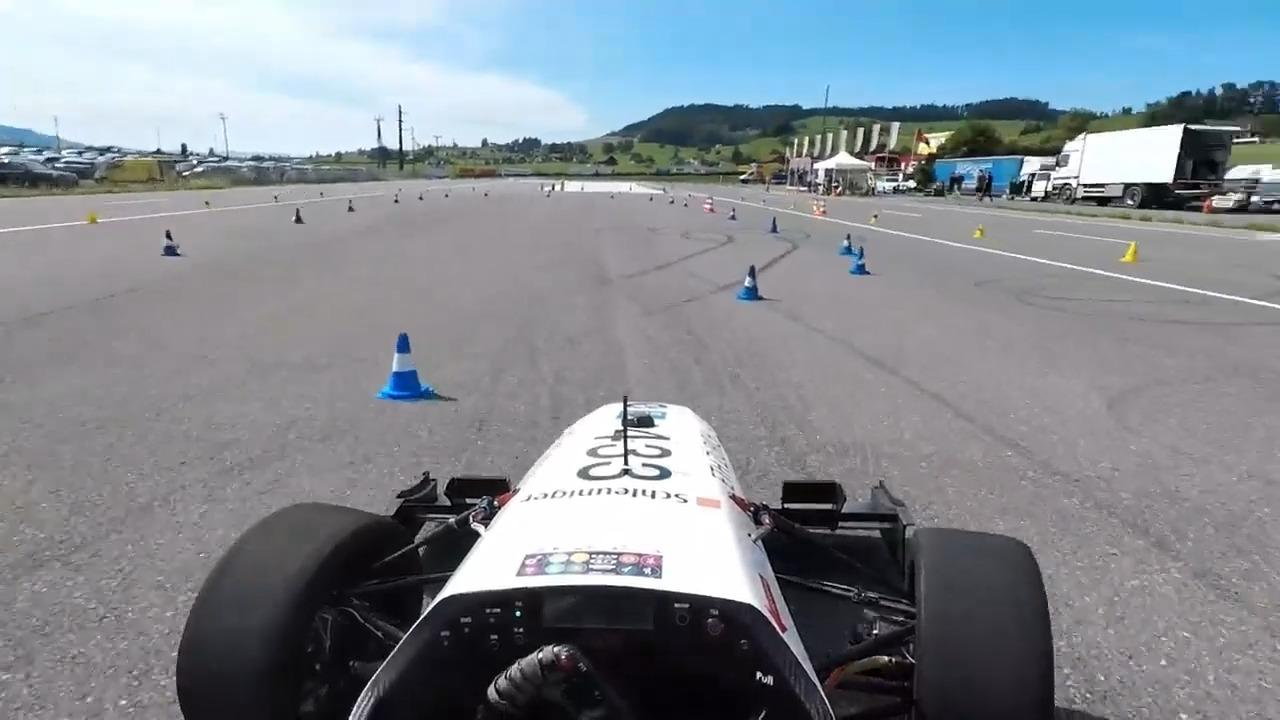blue_cone: (381, 326, 430, 399), (735, 260, 759, 300), (157, 226, 178, 258), (851, 245, 867, 275), (840, 230, 854, 255), (289, 204, 304, 225), (768, 215, 779, 235), (347, 196, 357, 214), (728, 206, 736, 222), (392, 190, 399, 203), (417, 190, 423, 201)
large_orange_cone: (704, 195, 715, 213)
yellow_cone: (1120, 241, 1140, 264), (974, 221, 987, 240), (869, 210, 881, 227), (88, 207, 98, 225)
